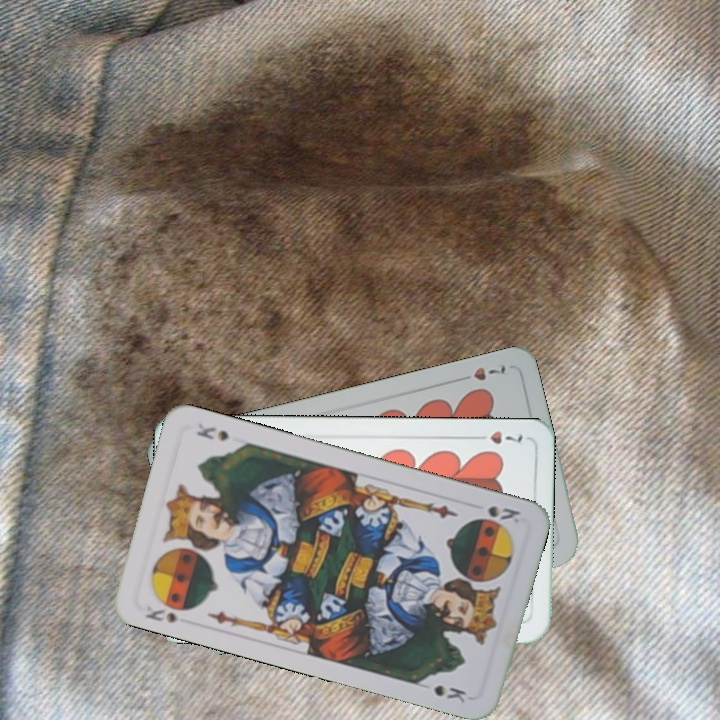H7: (452, 360, 510, 385), (469, 427, 525, 446)
SK: (141, 601, 195, 627), (483, 501, 523, 523)
